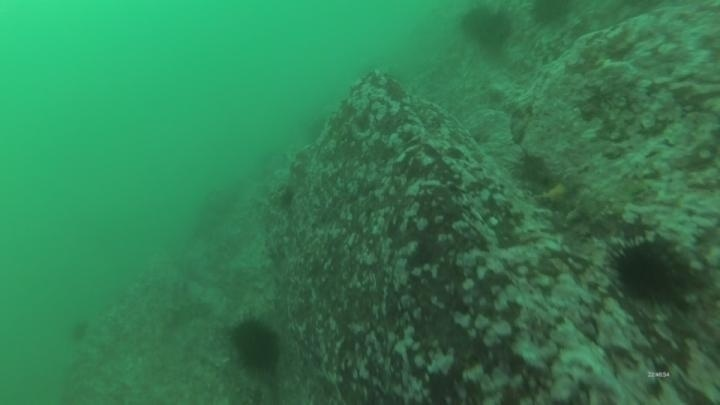echinus: (605, 234, 688, 307), (226, 313, 285, 377), (458, 3, 516, 53), (526, 0, 575, 28), (67, 317, 91, 344)
